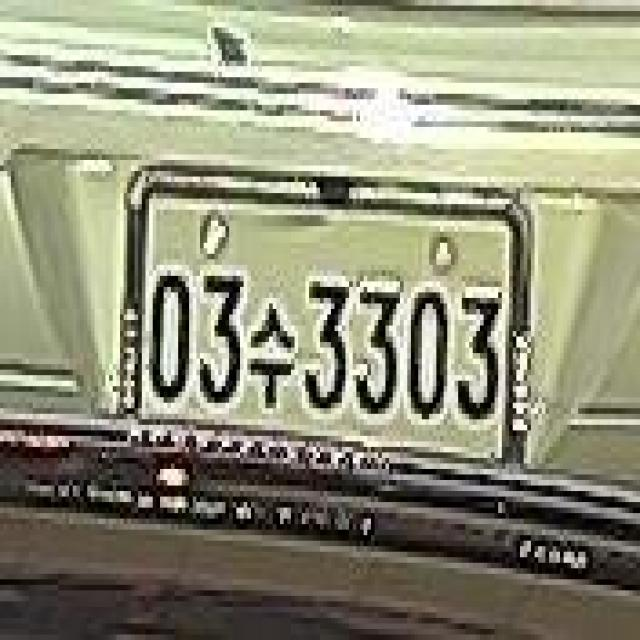illegal_plate: (123, 170, 523, 490)
